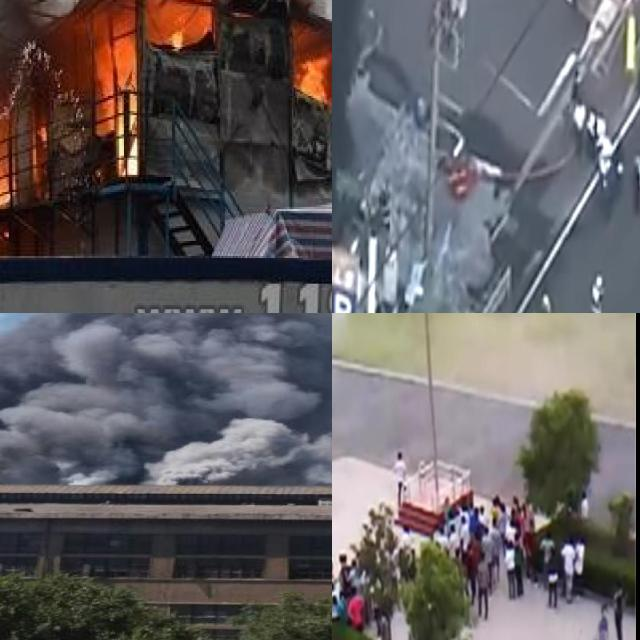fire: (102, 42, 140, 175), (292, 32, 332, 98), (164, 23, 188, 49)
smoke: (0, 313, 332, 481), (0, 0, 332, 106)
